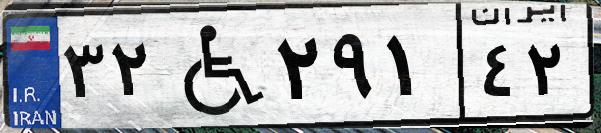1: (385, 28, 445, 110)
2: (270, 28, 330, 110), (525, 38, 570, 115), (110, 28, 158, 98)
3: (57, 26, 110, 100)
4: (475, 38, 525, 113)
9: (330, 28, 385, 110)
ژ (معلولین و جانبازان): (158, 12, 270, 120)
